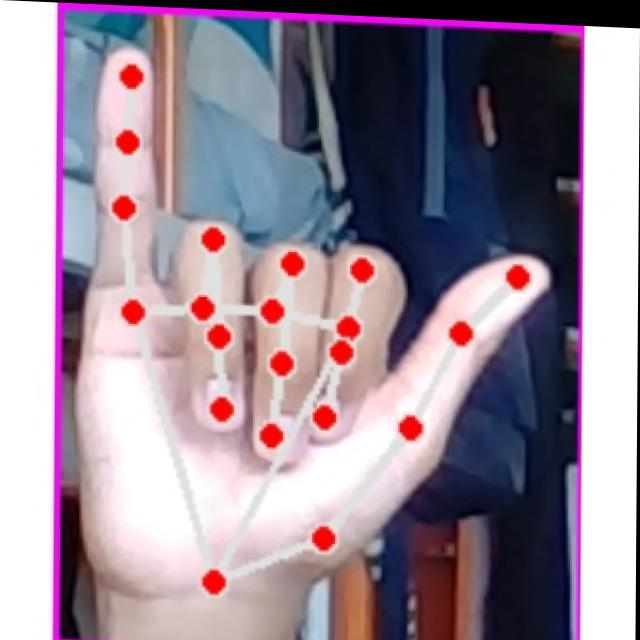Y: (76, 37, 555, 629)
